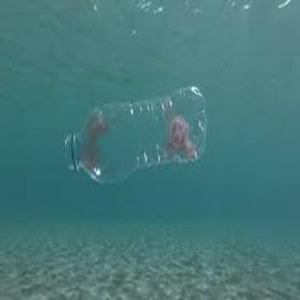Plastic: (63, 78, 210, 186)
